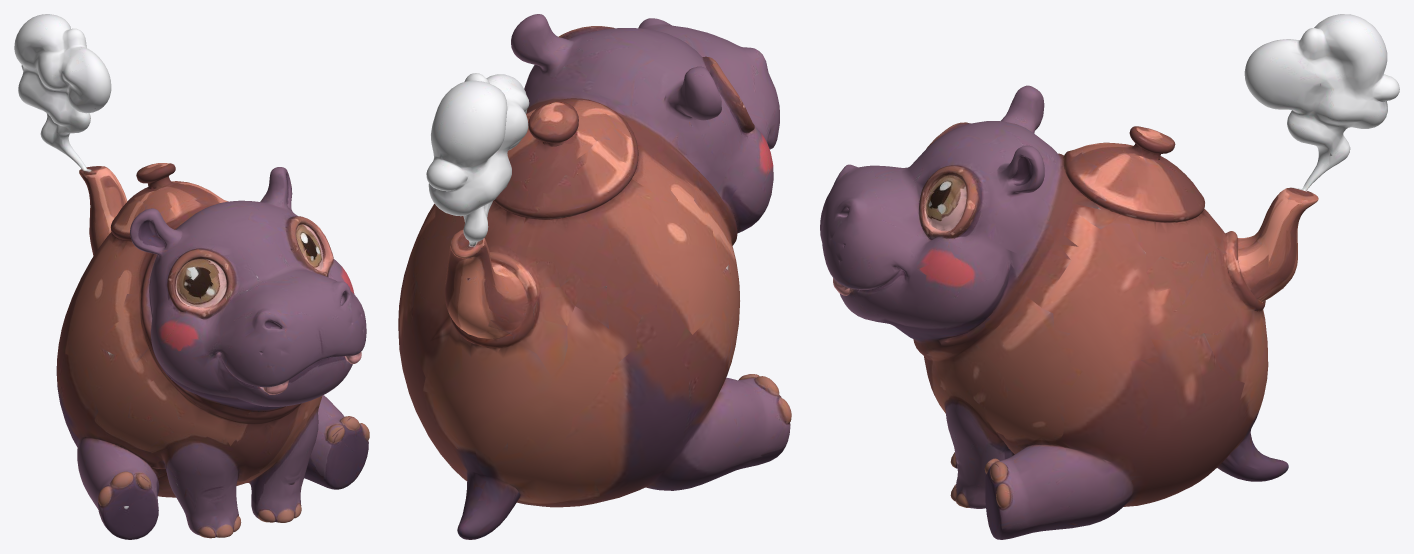
The picture shows the model from 3 angles, left to right: view 1: azimuth 30°, elevation 25°; view 2: azimuth 150°, elevation 25°; view 3: azimuth 270°, elevation 25°; orthographic projection. The views are drawn at different scales.
Parts seen in each view (by area): view 1: Mesh_0; view 2: Mesh_0; view 3: Mesh_0.
Part boxes in pixels (x1,y1,x2,y2): Mesh_0: [14, 14, 369, 539]; Mesh_0: [398, 14, 791, 539]; Mesh_0: [820, 14, 1399, 539].
Bounding box in the file's own units: 1.15 × 1.62 × 1.9.
1 material, 1 textured.
